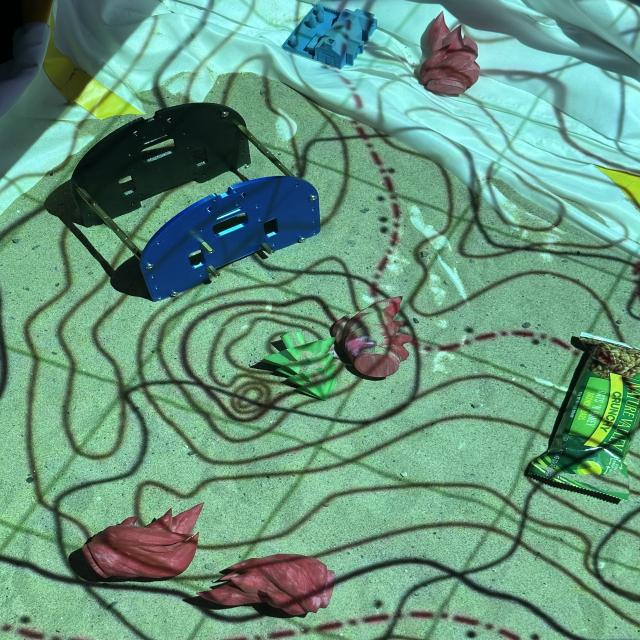fire: (82, 499, 202, 582), (195, 552, 337, 616), (332, 295, 412, 380), (421, 11, 481, 94)
house: (280, 4, 378, 70)
tree: (262, 331, 338, 400)
